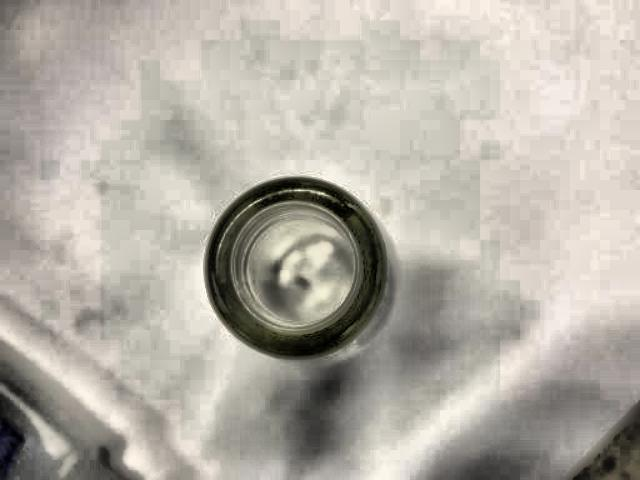Bottles: (172, 157, 424, 376)
